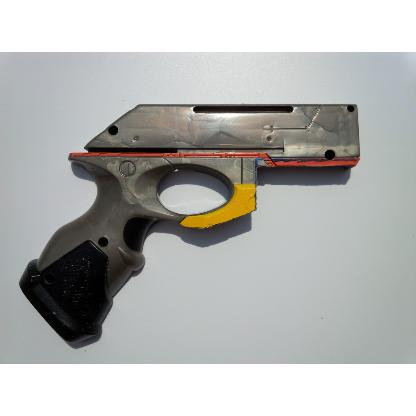gun: (17, 102, 360, 344)
